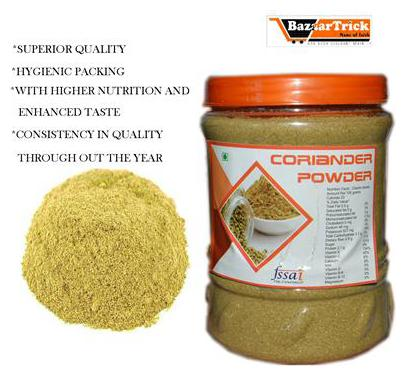fssai: (270, 264, 305, 280)
